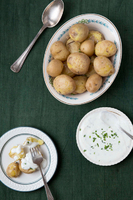boiled potatoes: (47, 26, 113, 93)
